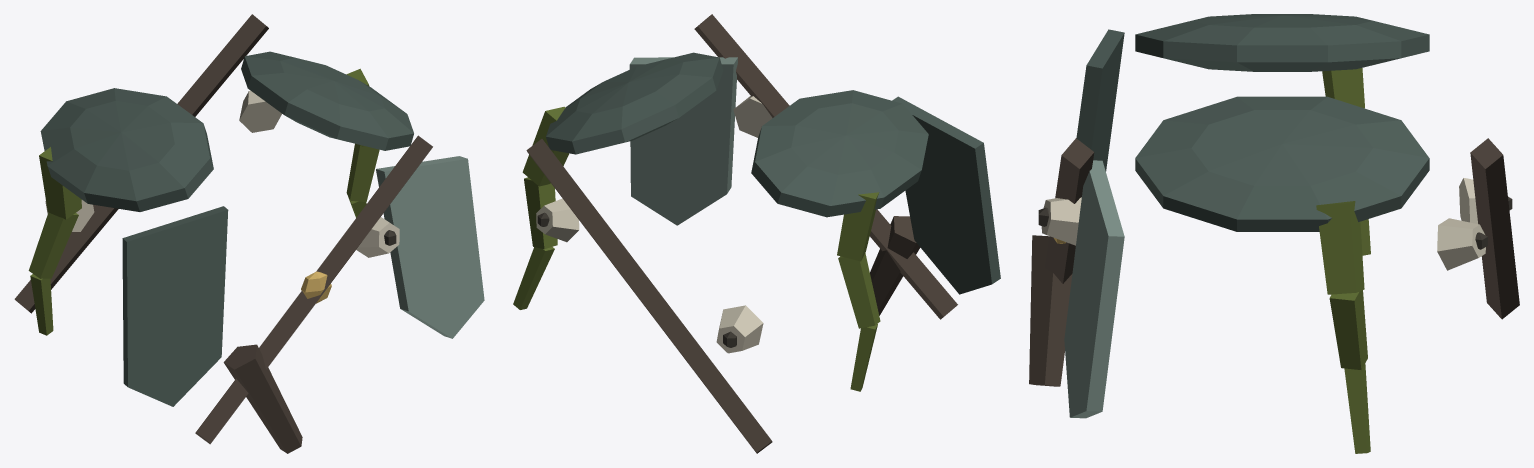
File: smuggler_rags.glb
The picture shows the model from 3 angles, left to right: view 1: azimuth 30°, elevation 25°; view 2: azimuth 150°, elevation 25°; view 3: azimuth 270°, elevation 25°; orthographic projection. The views are drawn at different scales.
Visible parts, largest first — view 1: smuggler_rags; view 2: smuggler_rags; view 3: smuggler_rags.
Part boxes in pixels (bbox=[...]): smuggler_rags: bbox=[14, 14, 484, 453]; smuggler_rags: bbox=[513, 14, 1000, 453]; smuggler_rags: bbox=[1029, 14, 1519, 453].
Bounding box in the file's own units: 0.9417 × 0.6816 × 0.8883.
